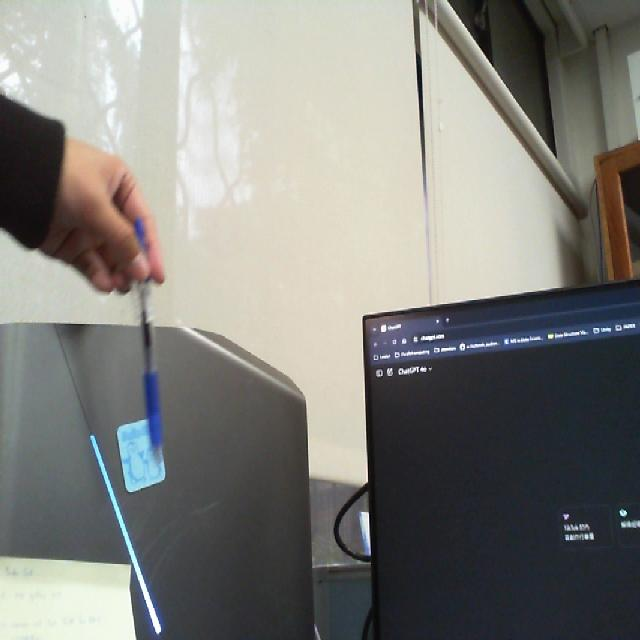Pen: (122, 200, 178, 489)
